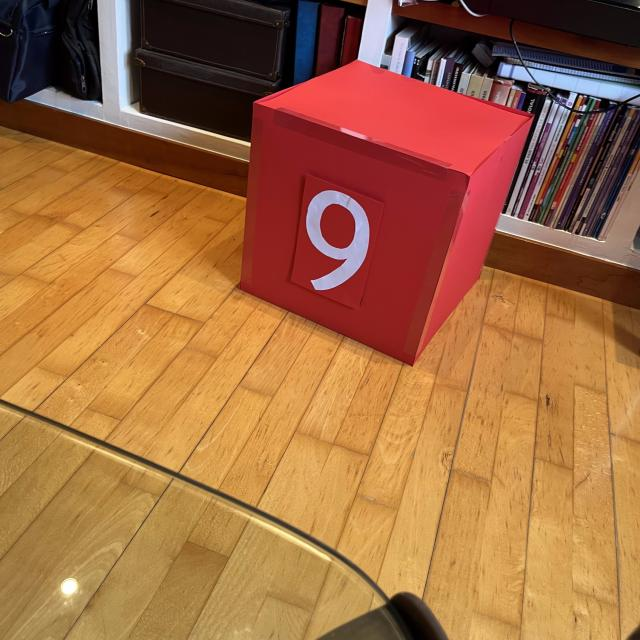box: (238, 56, 534, 366)
